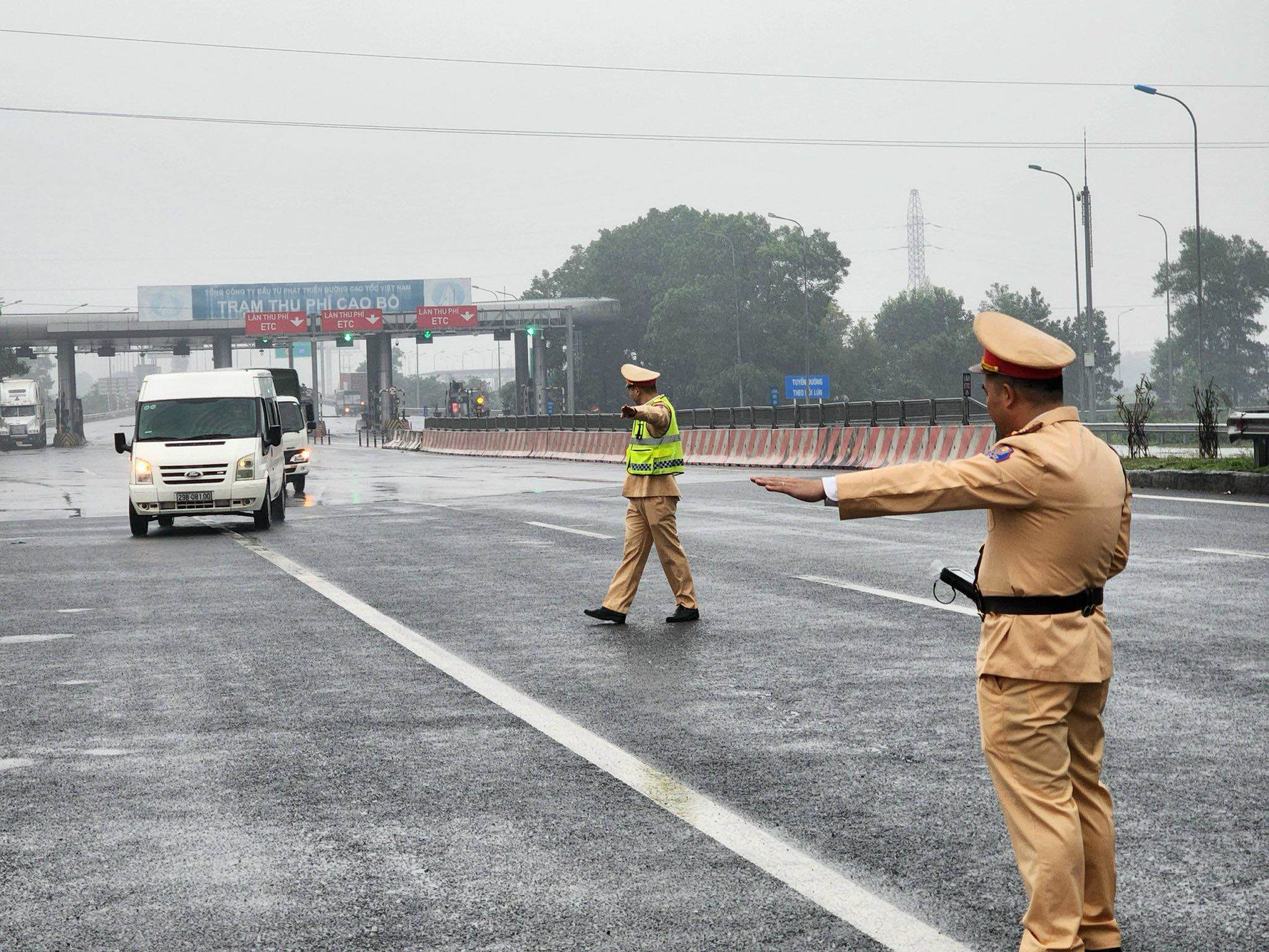xe_tai: (117, 365, 291, 538)
